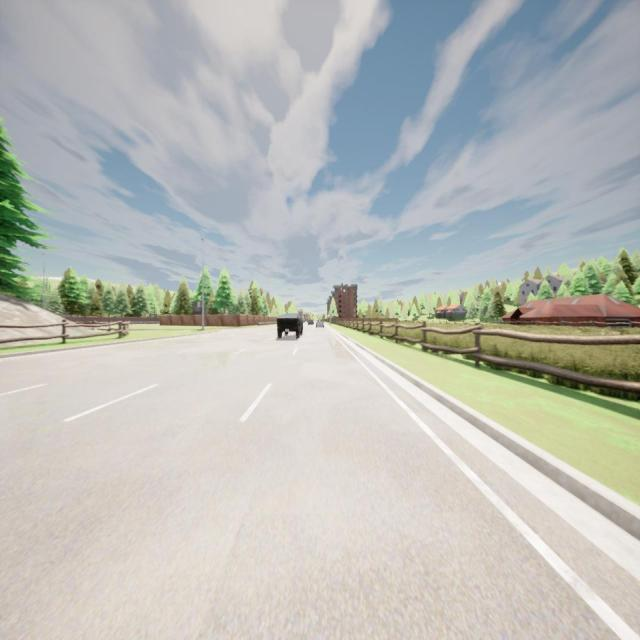Vehicle: (276, 313, 304, 338), (316, 320, 324, 328), (308, 319, 314, 325)
